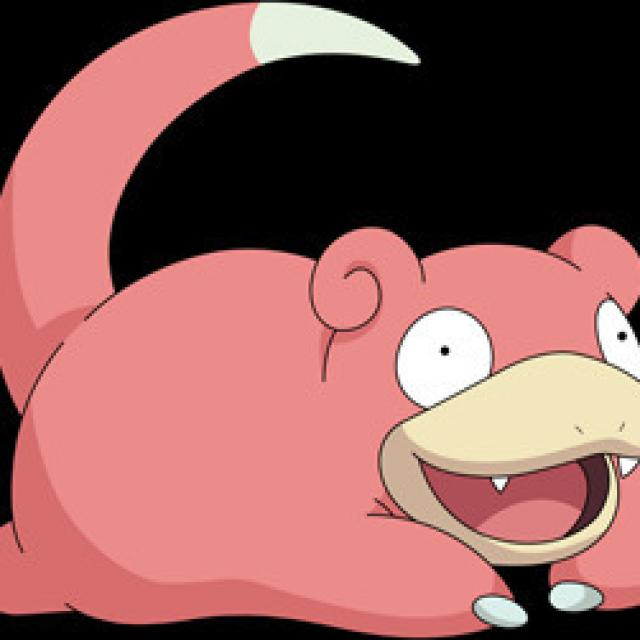Slowpoke: (0, 135, 640, 626)
